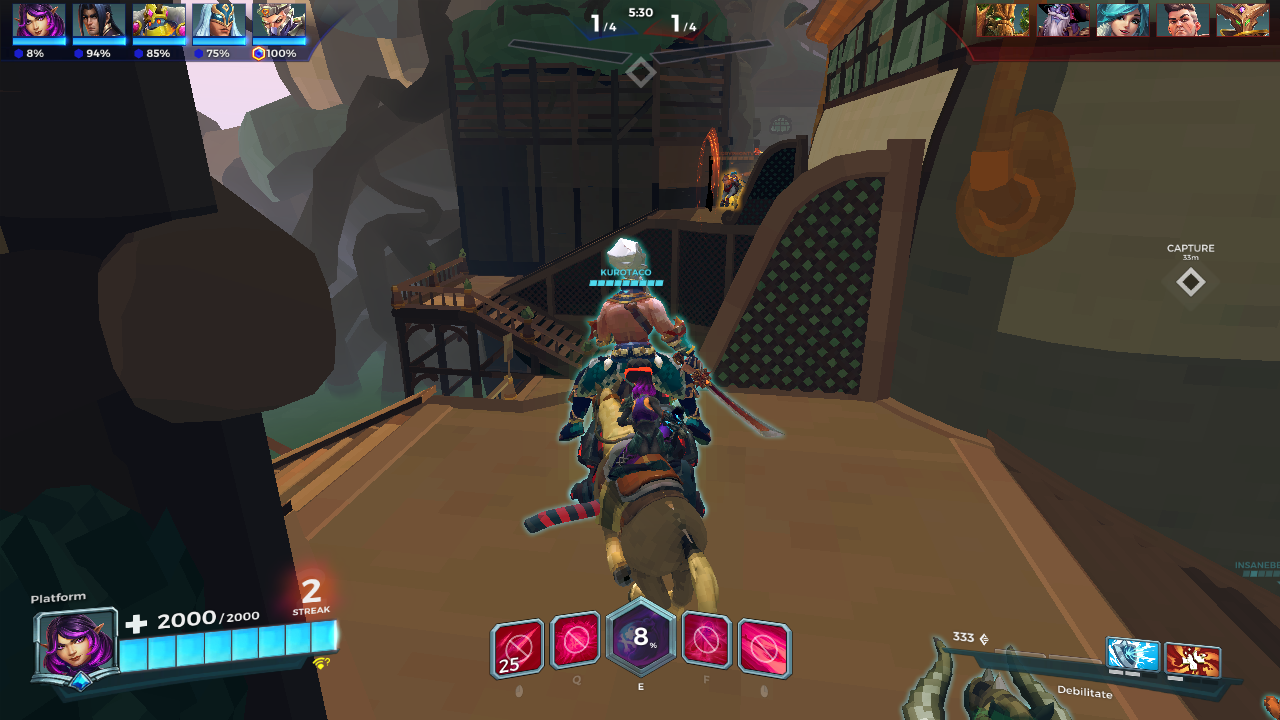model: (718, 163, 745, 209)
